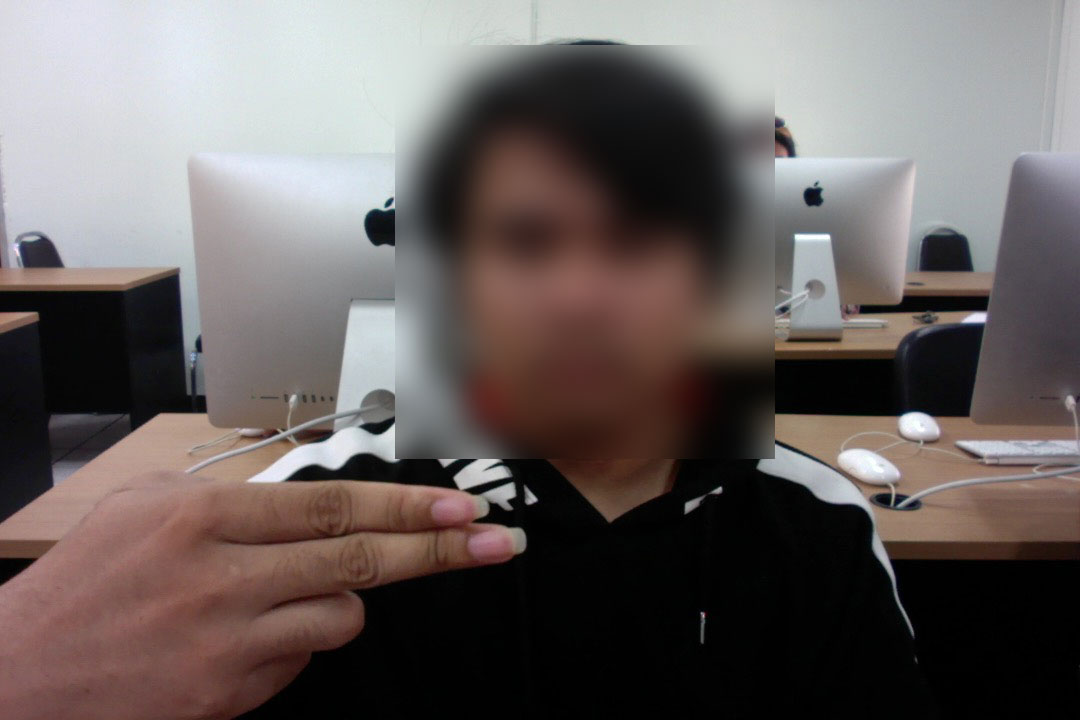hor: (14, 469, 552, 716)
